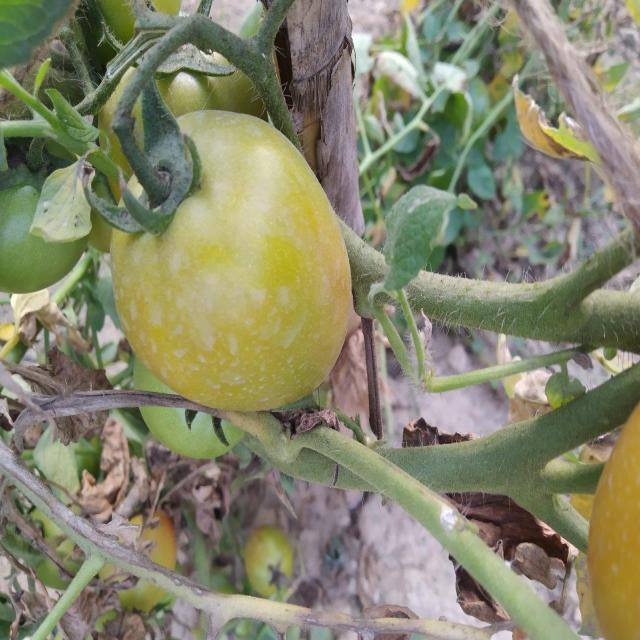Unripe: (109, 114, 352, 413)
